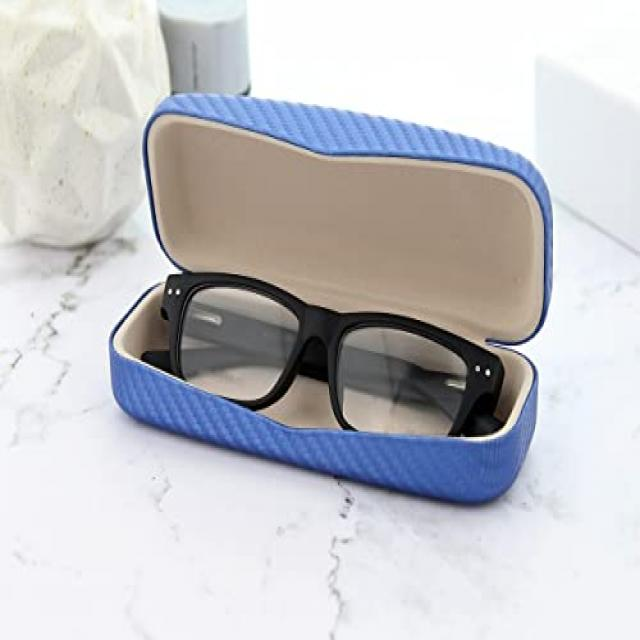glasses: (157, 260, 516, 454)
